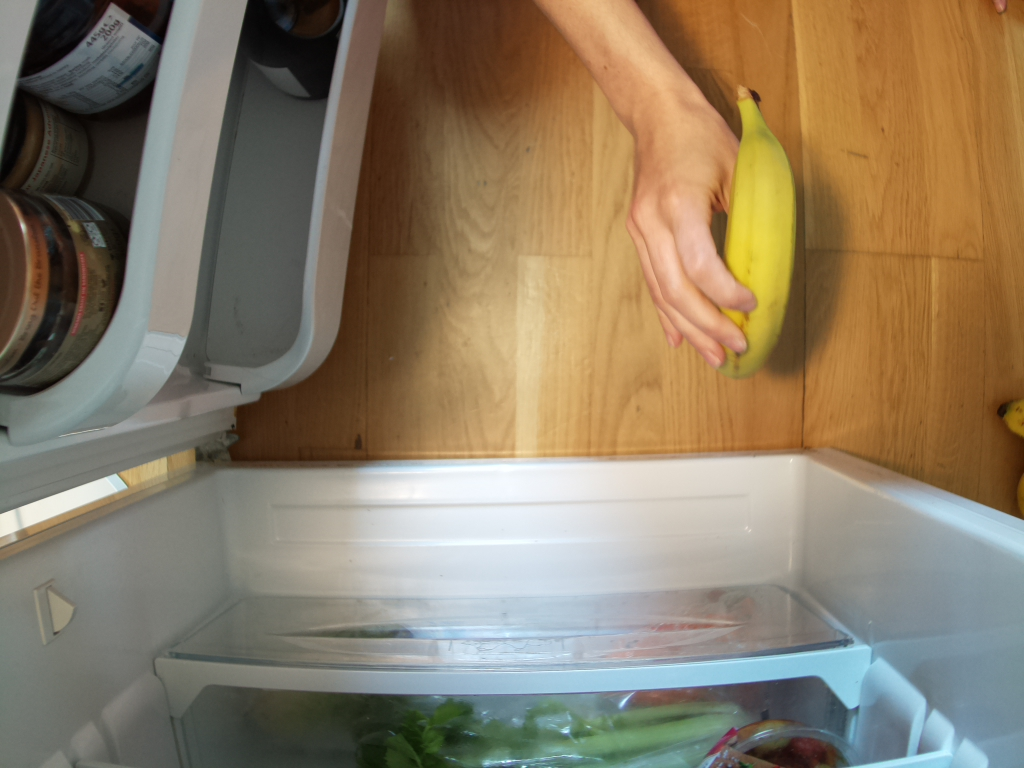banana-unripe: (717, 84, 798, 361)
